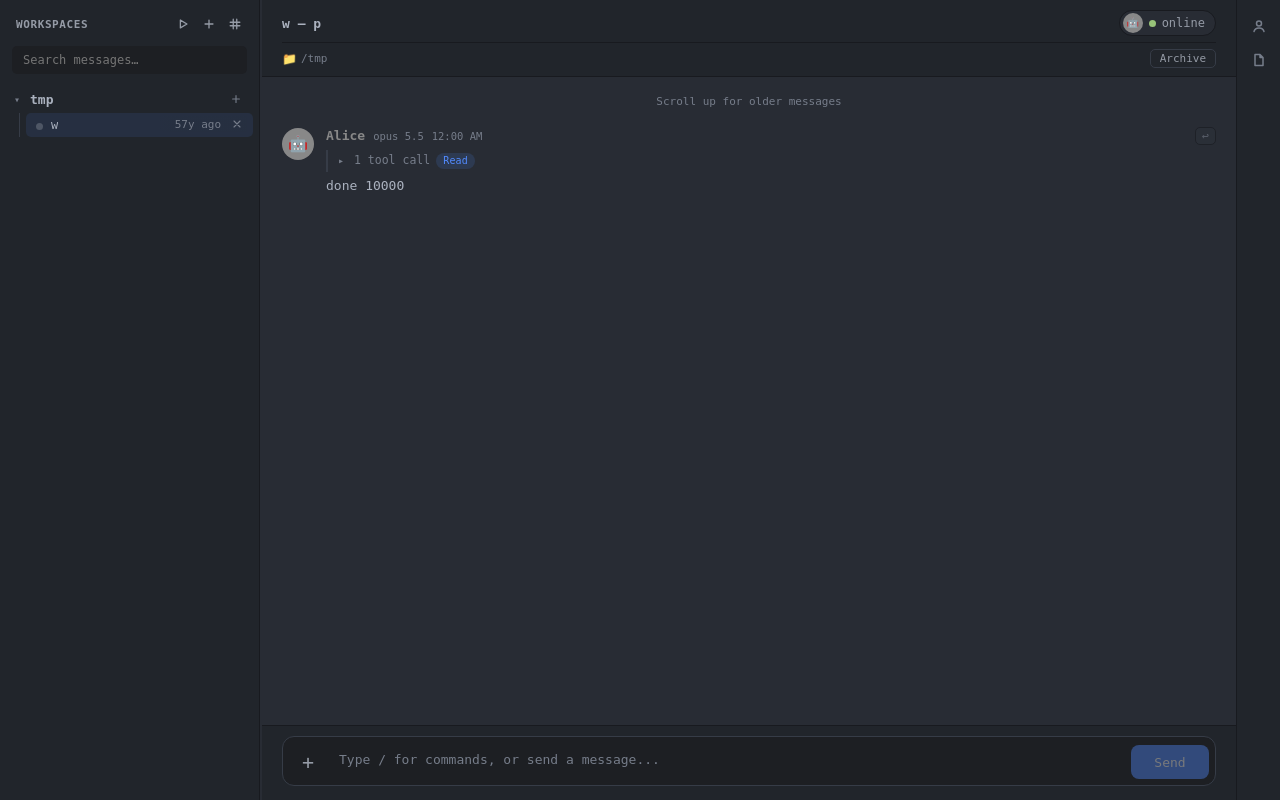
Test: search jumps › gives up after a bounded number of pages
Type "needle" into the field with placeholder "Search messages…" at (130, 60), box [12,46,247,74]
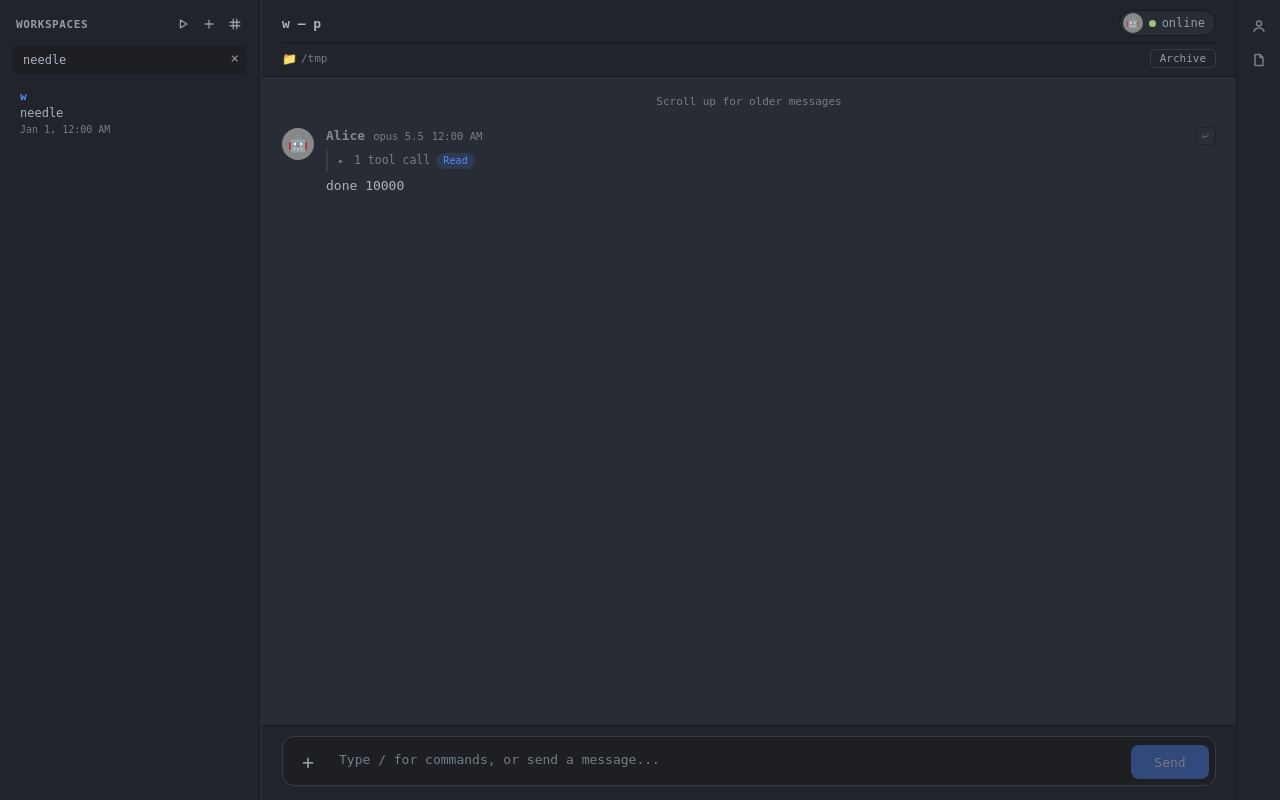
Click the element with class "search-result-item" at (65, 112), box [20,90,110,135]
Wait 220 ms
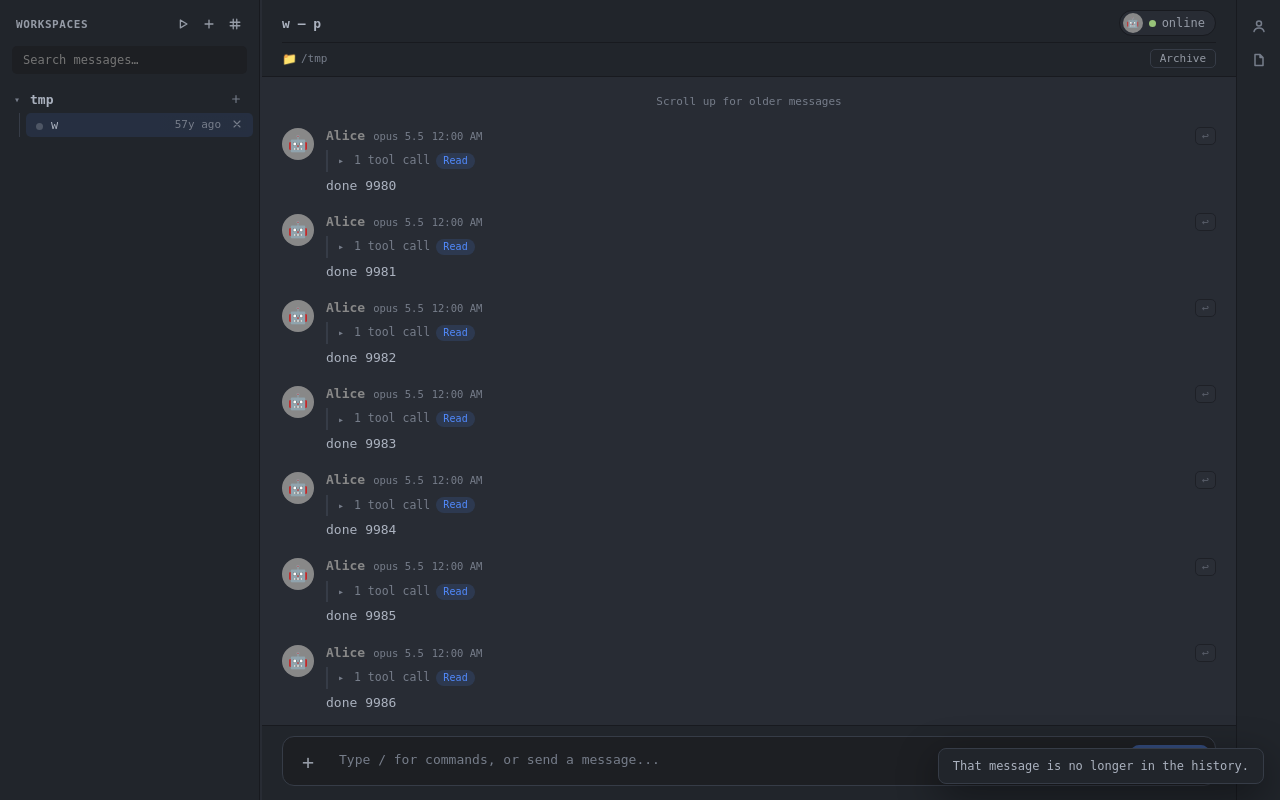
expect the text with class "info-toast" shows "no longer": met, box [953,759,1249,773]
